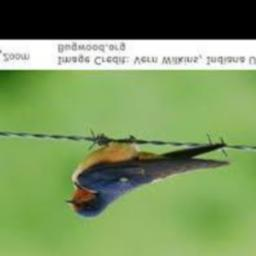Swallow: (65, 141, 230, 218)
